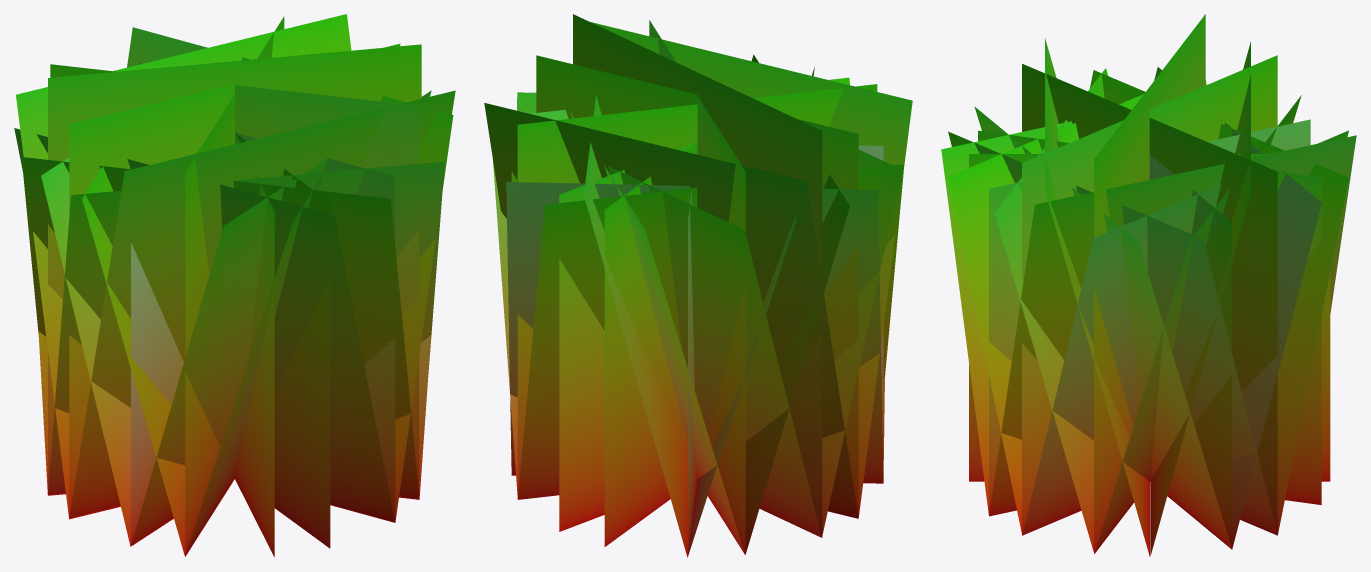
Rendered from terrainBush.fbx.
The picture shows the model from 3 angles, left to right: view 1: azimuth 30°, elevation 25°; view 2: azimuth 150°, elevation 25°; view 3: azimuth 270°, elevation 25°; orthographic projection. The views are drawn at different scales.
Parts seen in each view (by area): view 1: Plane.001; view 2: Plane.001; view 3: Plane.001.
Boxes of the visible parts, x1=… form: Plane.001: x1=14, y1=14, x2=455, y2=557; Plane.001: x1=484, y1=14, x2=912, y2=557; Plane.001: x1=941, y1=14, x2=1356, y2=556.
Size of the model in its own units: 230 by 241 by 230.
